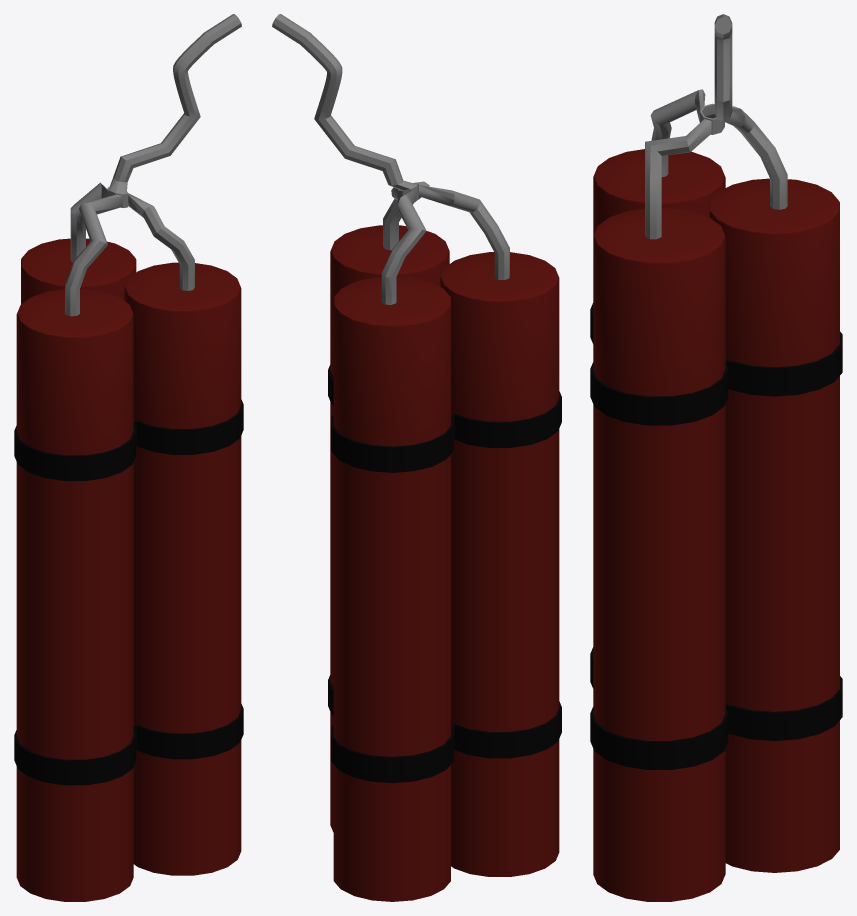
The model's file is dynamita.fbx.
The picture shows the model from 3 angles, left to right: view 1: azimuth 30°, elevation 25°; view 2: azimuth 150°, elevation 25°; view 3: azimuth 270°, elevation 25°; orthographic projection. The views are drawn at different scales.
Parts seen in each view (by area): view 1: Cylinder003, Object001, Line001; view 2: Cylinder003, Object001, Line001; view 3: Cylinder003, Object001, Line001.
Boxes of the visible parts, x1,y1,x2,y2 form: Cylinder003: (16,238,241,901); Object001: (14,399,243,785); Line001: (65,14,241,316); Cylinder003: (330,225,559,901); Object001: (328,365,561,783); Line001: (272,14,509,304); Cylinder003: (593,149,839,901); Object001: (590,303,842,769); Line001: (645,14,787,239).
Size of the model in its own units: 14.52 by 45.12 by 11.44.
